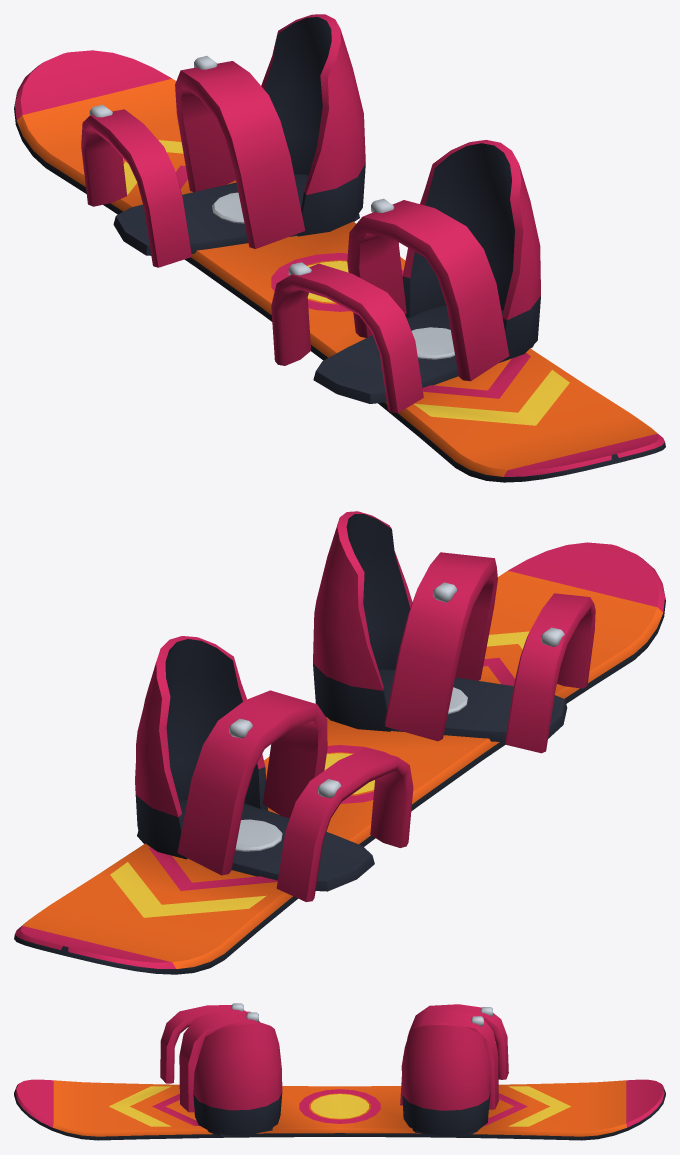
Rendered from snowboard.glb.
3 views of the same model, one above another, from view 1: azimuth 30°, elevation 25°; view 2: azimuth 150°, elevation 25°; view 3: azimuth 270°, elevation 25° (orthographic). The views are drawn at different scales.
Parts seen in each view (by area): view 1: Board; view 2: Board; view 3: Board.
Boxes of the visible parts, box(x1,y1,x2,y2) form: Board: box(14, 14, 665, 482); Board: box(14, 511, 665, 974); Board: box(14, 1003, 665, 1140).
Bounding box in the file's own units: 0.3997 × 0.298 × 1.55.
